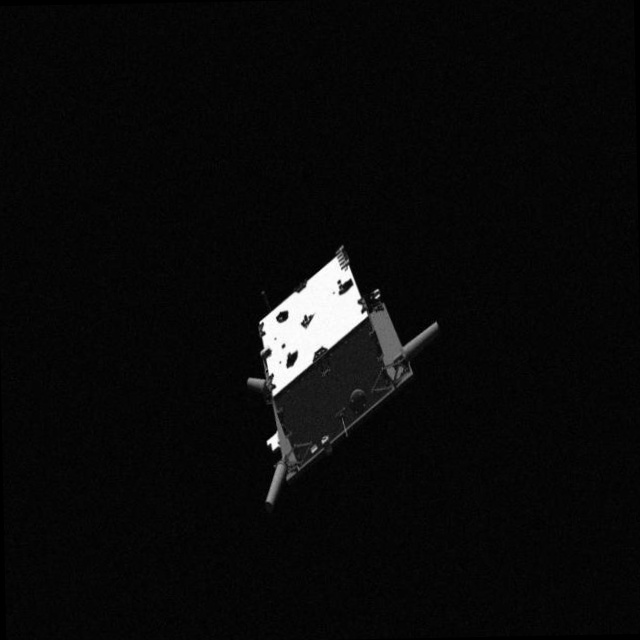medium_debris: (229, 246, 446, 512)
